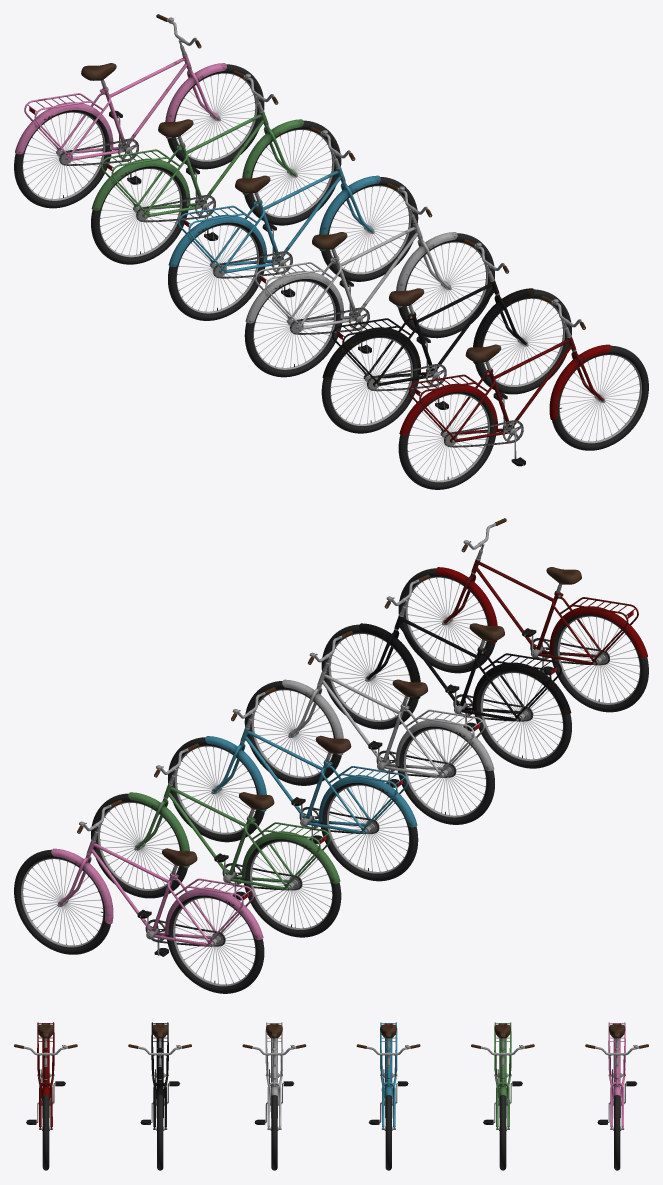
The model's file is old_bicycles.glb.
3 views of the same model, one above another, from view 1: azimuth 30°, elevation 25°; view 2: azimuth 150°, elevation 25°; view 3: azimuth 270°, elevation 25° (orthographic). The views are drawn at different scales.
Parts seen in each view (by area): view 1: bicycle_red, bicycle_blue, bicycle_pink, bicycle_black, bicycle_green, bicycle_white; view 2: bicycle_pink, bicycle_green, bicycle_black, bicycle_white, bicycle_red, bicycle_blue; view 3: bicycle_red, bicycle_green, bicycle_blue, bicycle_pink, bicycle_black, bicycle_white.
Part boxes in pixels (left/top/right/bottom): bicycle_red: left=398, top=295, right=648, bottom=489; bicycle_blue: left=168, top=127, right=418, bottom=320; bicycle_pink: left=14, top=14, right=264, bottom=208; bicycle_black: left=321, top=239, right=571, bottom=433; bicycle_green: left=91, top=70, right=341, bottom=264; bicycle_white: left=244, top=183, right=494, bottom=377; bicycle_pink: left=14, top=799, right=264, bottom=993; bicycle_green: left=91, top=743, right=341, bottom=937; bicycle_black: left=321, top=574, right=571, bottom=768; bicycle_white: left=244, top=631, right=494, bottom=824; bicycle_red: left=398, top=518, right=648, bottom=712; bicycle_blue: left=168, top=687, right=418, bottom=881; bicycle_red: left=14, top=1022, right=77, bottom=1170; bicycle_green: left=471, top=1022, right=534, bottom=1170; bicycle_blue: left=356, top=1022, right=420, bottom=1170; bicycle_pink: left=585, top=1022, right=648, bottom=1170; bicycle_black: left=128, top=1022, right=191, bottom=1170; bicycle_white: left=242, top=1022, right=306, bottom=1170.
Size of the model in its own units: 1.95 by 1.12 by 5.78.
Materials: 6 (6 with a texture image).
